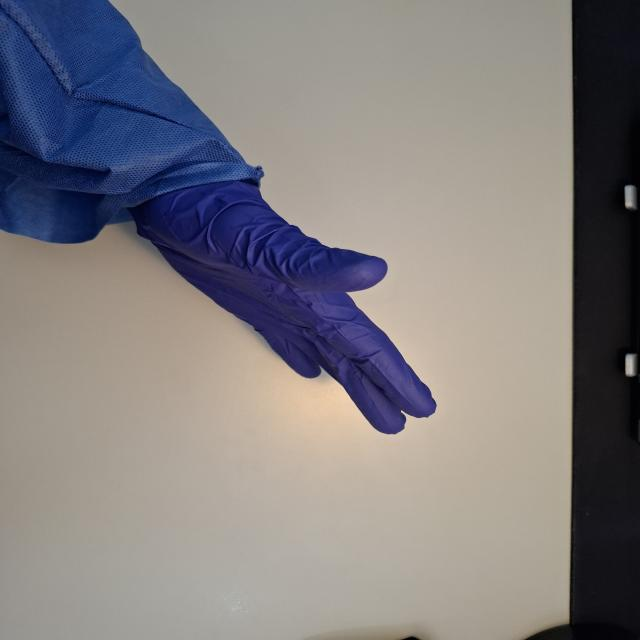glove_on: (124, 173, 441, 437)
